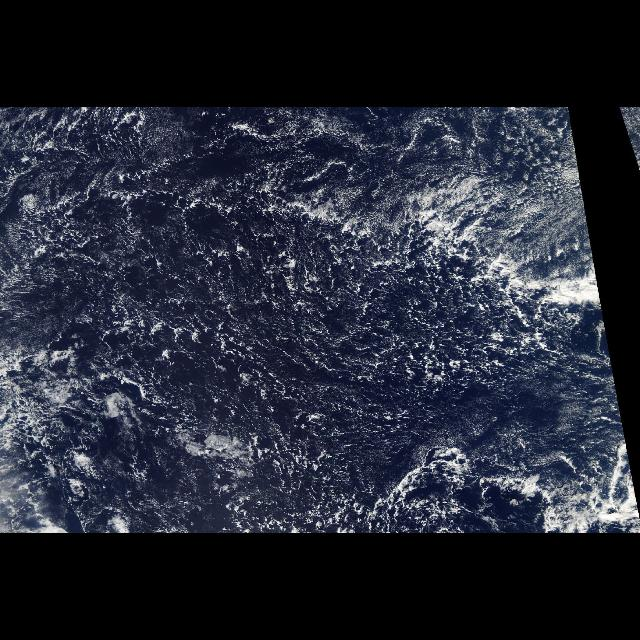Gravel: (5, 111, 640, 533), (618, 111, 640, 172)
